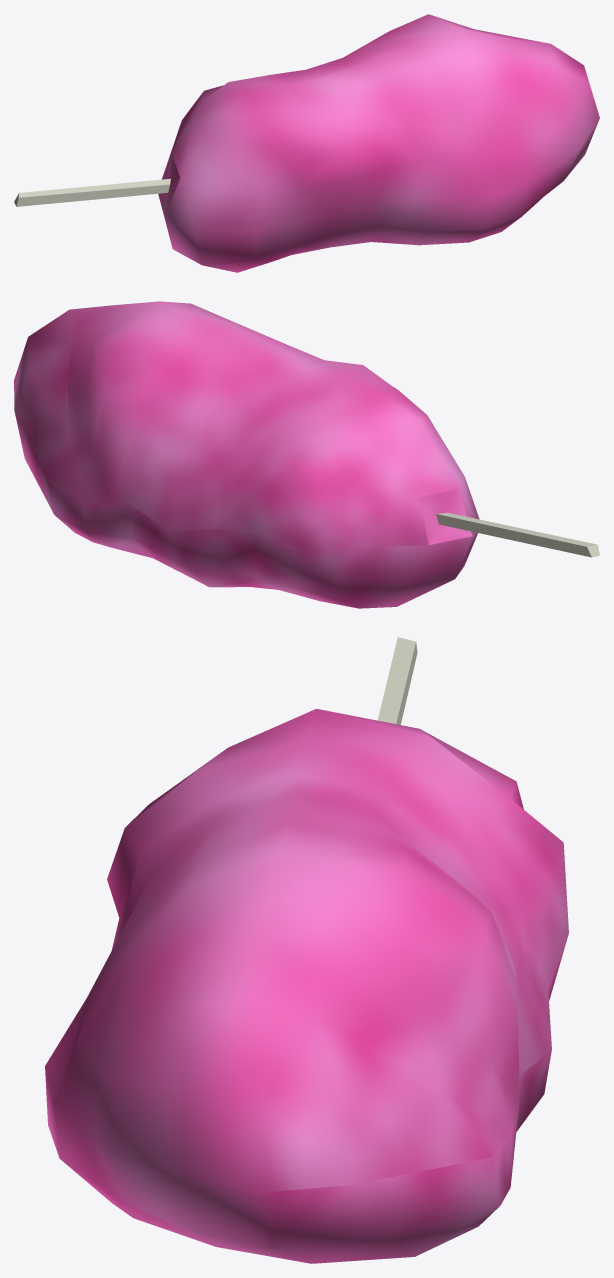
The model's file is cloud.fbx.
3 views of the same model, one above another, from view 1: azimuth 30°, elevation 25°; view 2: azimuth 150°, elevation 25°; view 3: azimuth 270°, elevation 25° (orthographic). The views are drawn at different scales.
Parts seen in each view (by area): view 1: pCube1; view 2: pCube1; view 3: pCube1.
Part boxes in pixels (x1,y1,x2,y2): pCube1: (14, 14, 599, 272); pCube1: (14, 301, 599, 608); pCube1: (45, 637, 568, 1263).
Size of the model in its own units: 25.17 by 8.71 by 10.48.
